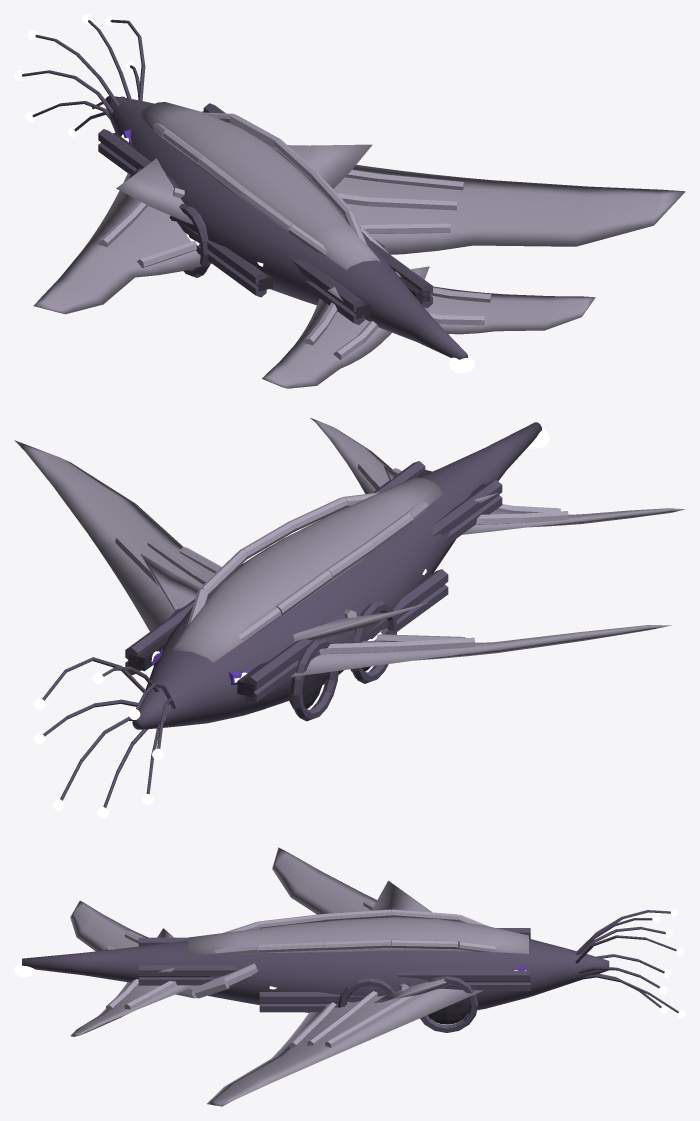
3 renders of one model, top to bottom at view 1: azimuth 30°, elevation 25°; view 2: azimuth 150°, elevation 25°; view 3: azimuth 270°, elevation 25°, orthographic. The views are drawn at different scales.
Parts seen in each view (by area): view 1: RIMWARD_HULL, RIMWARD_EMISSIVE; view 2: RIMWARD_HULL, RIMWARD_EMISSIVE; view 3: RIMWARD_HULL, RIMWARD_EMISSIVE.
Boxes of the visible parts, <box> form: RIMWARD_HULL: <box>22,19,685,388</box>; RIMWARD_EMISSIVE: <box>14,14,263,266</box>; RIMWARD_HULL: <box>14,418,684,807</box>; RIMWARD_EMISSIVE: <box>33,569,426,818</box>; RIMWARD_HULL: <box>22,847,678,1106</box>; RIMWARD_EMISSIVE: <box>269,908,685,1018</box>.
Bounding box in the file's own units: 6.85 × 1.3 × 7.78.
